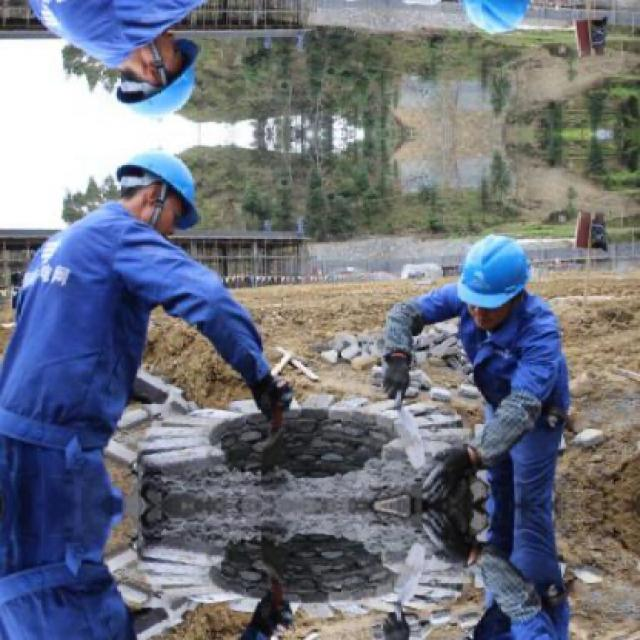2: (1, 151, 292, 504), (392, 235, 582, 504), (0, 507, 292, 638), (0, 0, 292, 118), (390, 508, 582, 638)
helmet: (106, 144, 206, 232), (106, 38, 206, 126), (455, 231, 537, 321), (454, 0, 537, 39)
